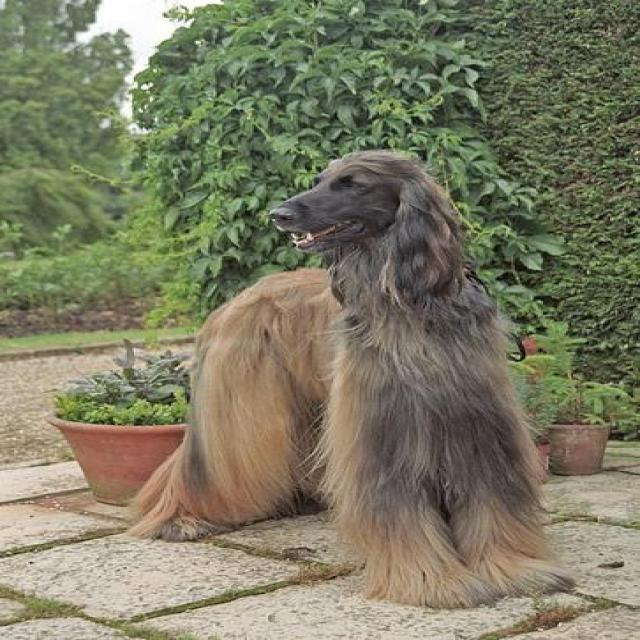afghan_hound: (120, 144, 585, 610)
